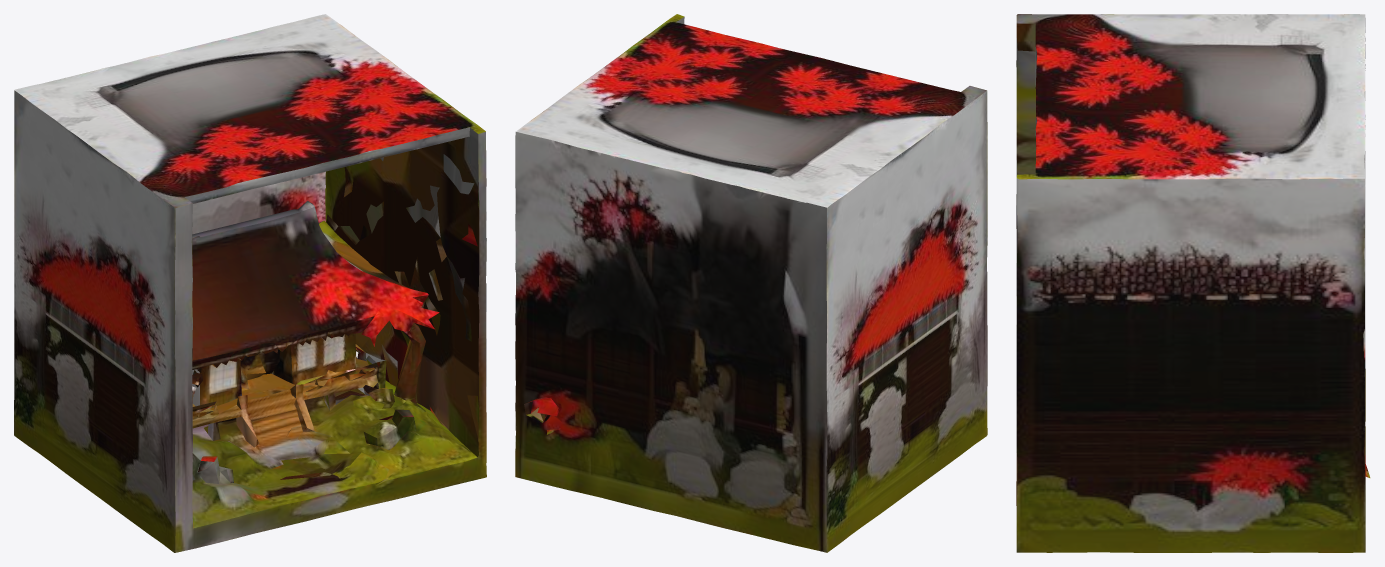
Rendered from sanzen-in.glb.
The picture shows the model from 3 angles, left to right: view 1: azimuth 30°, elevation 25°; view 2: azimuth 150°, elevation 25°; view 3: azimuth 270°, elevation 25°; orthographic projection. The views are drawn at different scales.
Parts seen in each view (by area): view 1: logan-textured.obj; view 2: logan-textured.obj; view 3: logan-textured.obj.
Boxes of the visible parts, x1,y1,x2,y2 form: logan-textured.obj: [14, 14, 486, 552]; logan-textured.obj: [515, 14, 987, 552]; logan-textured.obj: [1016, 14, 1370, 552].
Size of the model in its own units: 0.9453 by 1 by 0.8571.
1 material, 1 textured.
